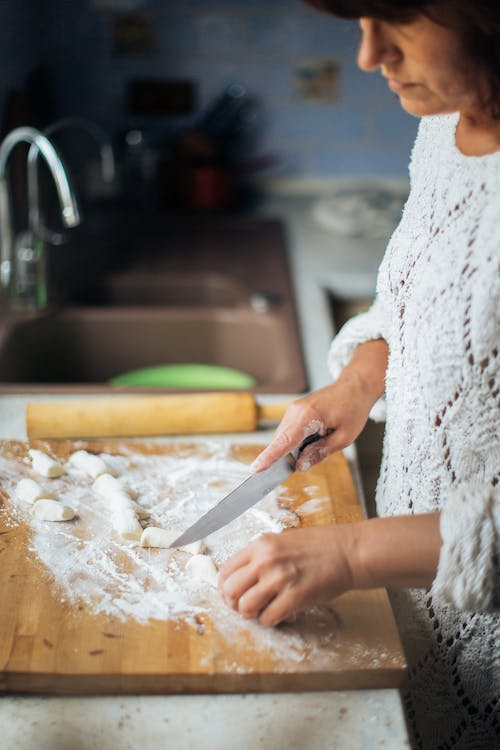knife: (165, 432, 321, 551)
